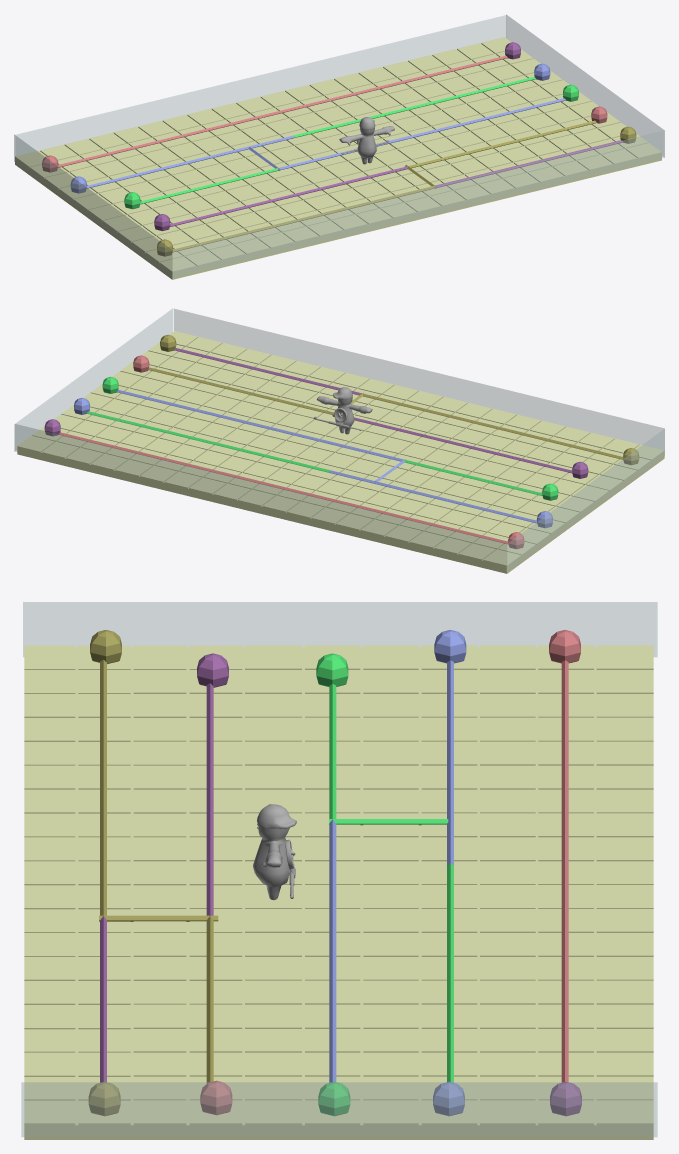
File: 5_1_gameset.fbx
The picture shows the model from 3 angles, top to bottom: view 1: azimuth 30°, elevation 25°; view 2: azimuth 150°, elevation 25°; view 3: azimuth 270°, elevation 25°; orthographic projection. The views are drawn at different scales.
Visible parts, largest first — view 1: polySurface101; view 2: polySurface101; view 3: polySurface101.
Part boxes in pixels (x1,y1,x2,y2): polySurface101: (14, 14, 664, 279); polySurface101: (14, 308, 664, 573); polySurface101: (21, 602, 657, 1139).
Bounding box in the file's own units: 2008 × 210 × 1125.
